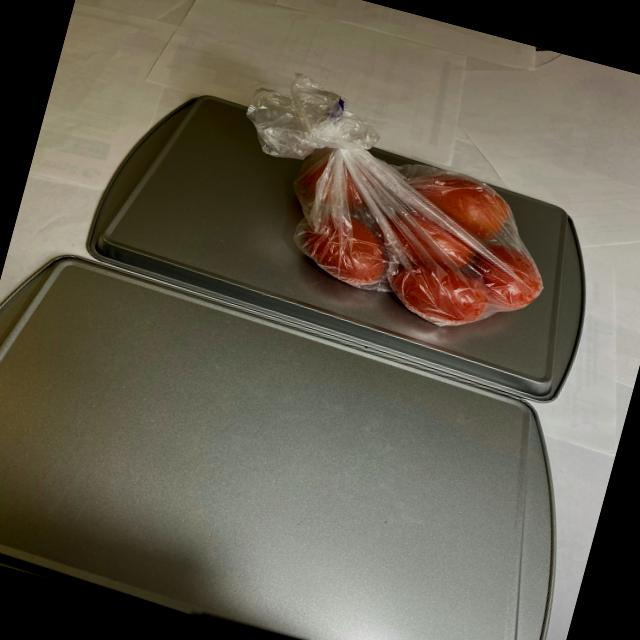tomato: (249, 110, 576, 350)
